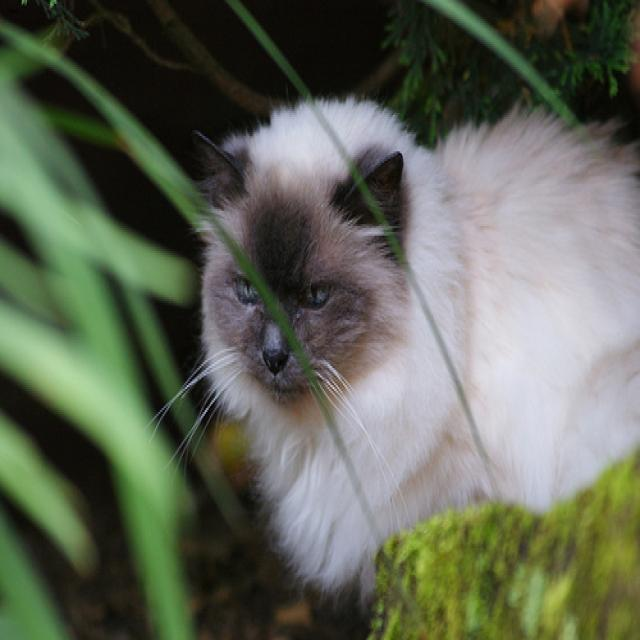Birman: (192, 129, 402, 405)
